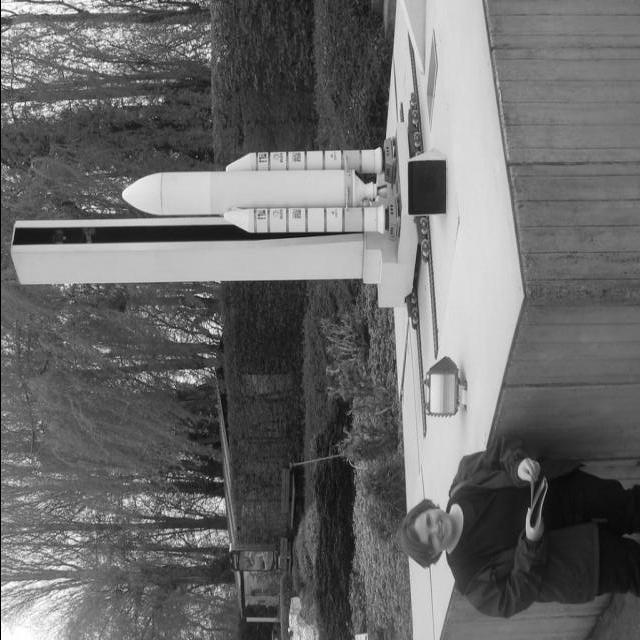missile: (96, 163, 360, 220)
